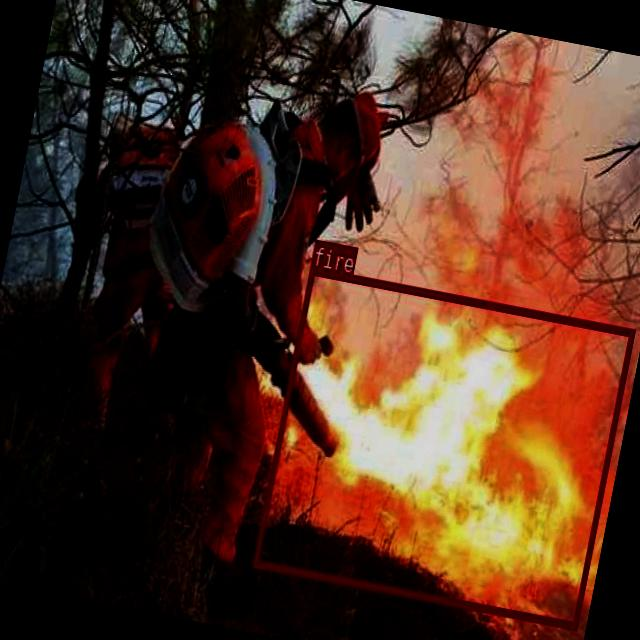fire: (252, 266, 634, 628)
